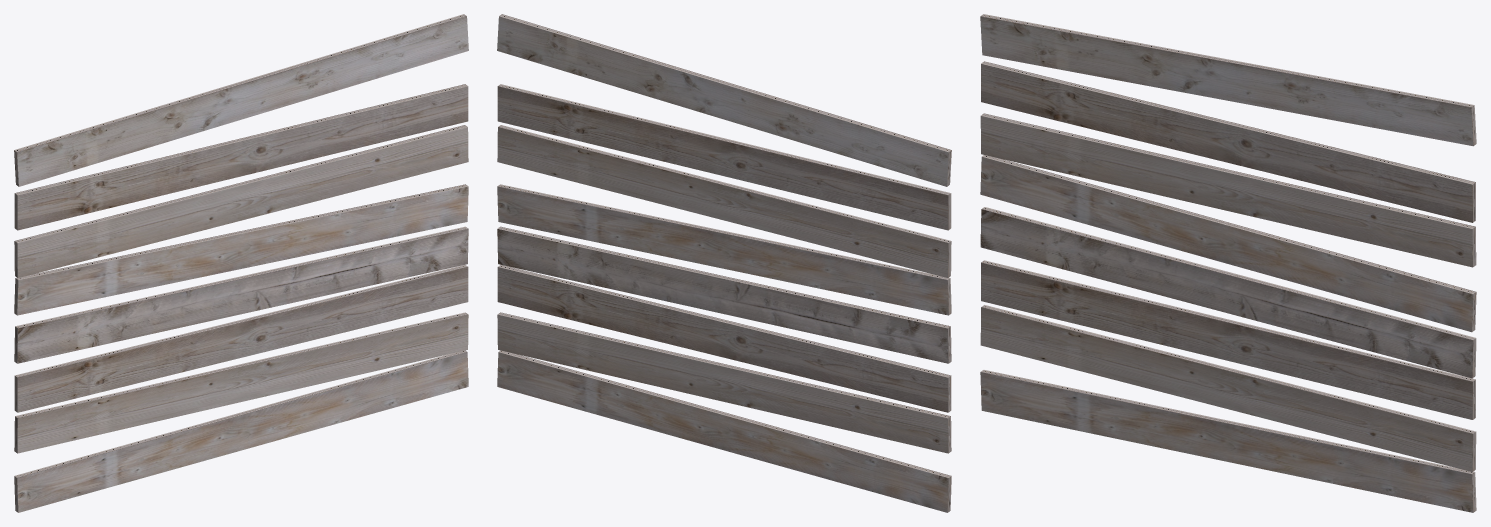
Rendered from baricadaPlanks.glb.
The picture shows the model from 3 angles, left to right: view 1: azimuth 30°, elevation 25°; view 2: azimuth 150°, elevation 25°; view 3: azimuth 330°, elevation 25°; orthographic projection. The views are drawn at different scales.
Parts seen in each view (by area): view 1: baricadaPlanks; view 2: baricadaPlanks; view 3: baricadaPlanks.
Boxes of the visible parts, box(x1,y1,x2,y2) form: baricadaPlanks: box(14, 14, 468, 512); baricadaPlanks: box(497, 14, 951, 512); baricadaPlanks: box(980, 14, 1476, 512).
Size of what is drawn, in the model's own units: 4.85 by 3.97 by 0.0569.
1 material, 1 textured.
